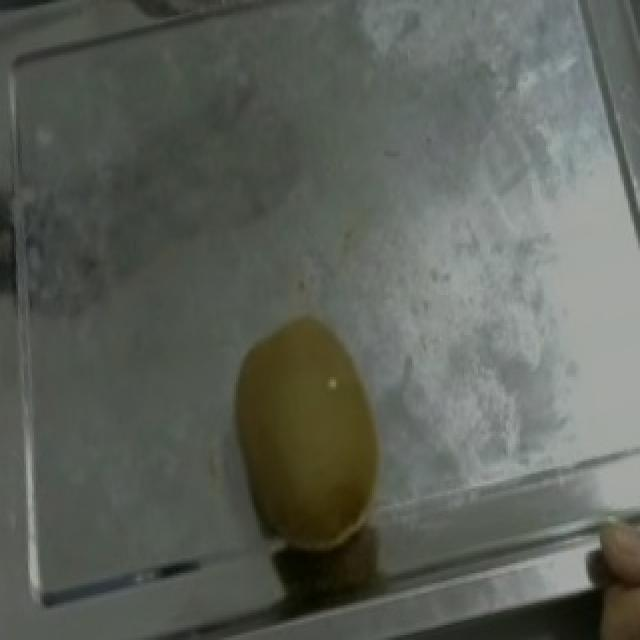Fruit: (202, 308, 416, 576)
